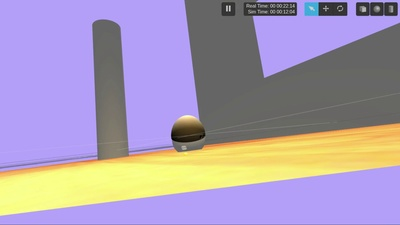mira_robot: (171, 115, 206, 152)
